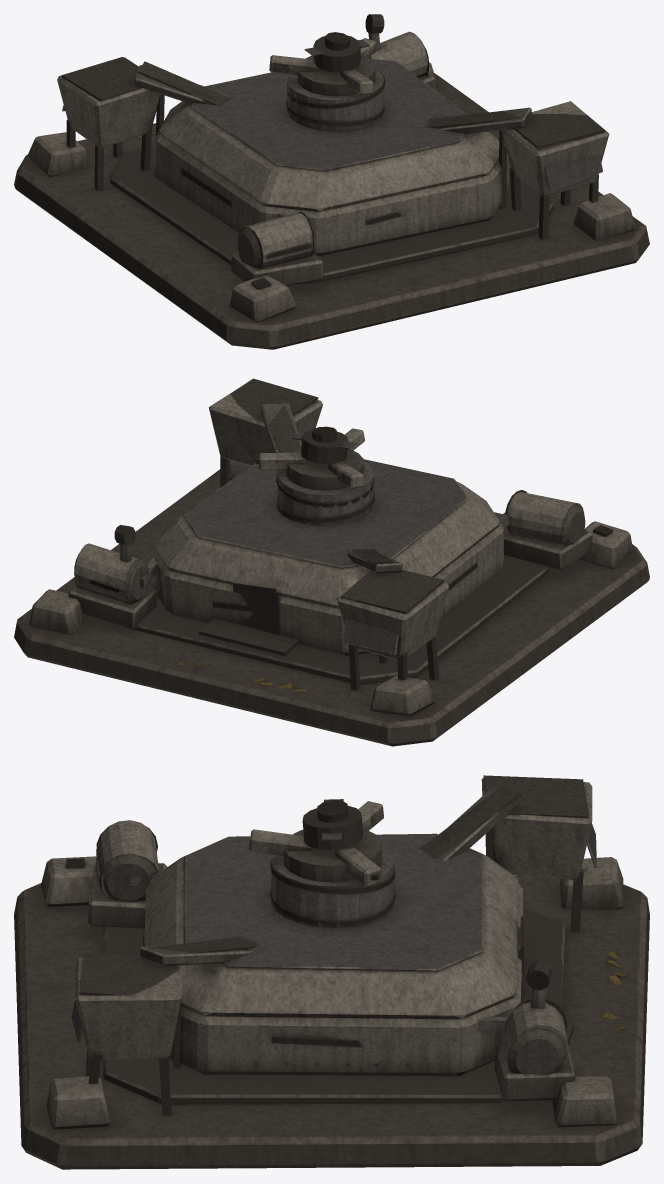
The model's file is ord_extractor_wreck.fbx.
3 renders of one model, top to bottom at view 1: azimuth 30°, elevation 25°; view 2: azimuth 150°, elevation 25°; view 3: azimuth 270°, elevation 25°, orthographic. The views are drawn at different scales.
Visible parts, largest first — view 1: base_bar, drill_bar; view 2: base_bar, drill_bar; view 3: base_bar, drill_bar.
Boxes of the visible parts, x1,y1,x2,y2 form: base_bar: (14,14,649,349); drill_bar: (269,32,385,131); base_bar: (14,378,649,746); drill_bar: (255,426,374,525); base_bar: (14,775,649,1169); drill_bar: (248,799,395,927).
Size of the model in its own units: 1559 by 830 by 1572.
2 materials, 2 textured.
